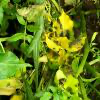Potato leaf late blight: (44, 34, 86, 52), (17, 2, 46, 23), (58, 7, 73, 38), (63, 74, 80, 94), (63, 53, 79, 68), (46, 49, 61, 61), (51, 21, 62, 37)
